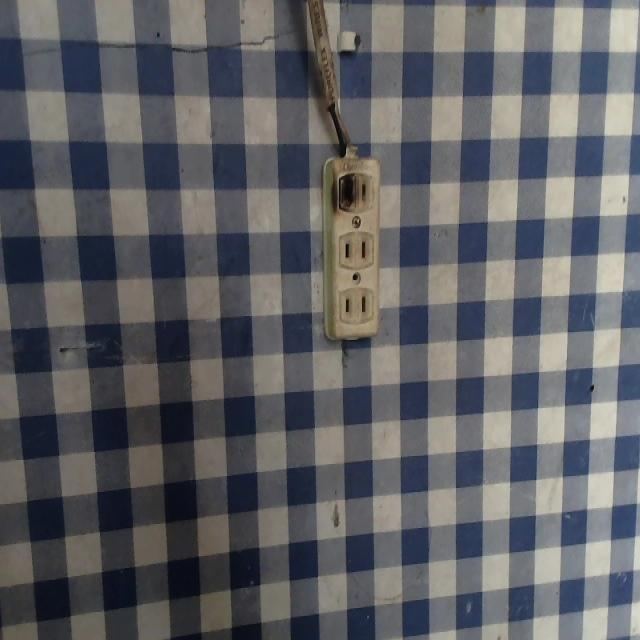-: (333, 170, 359, 210)
